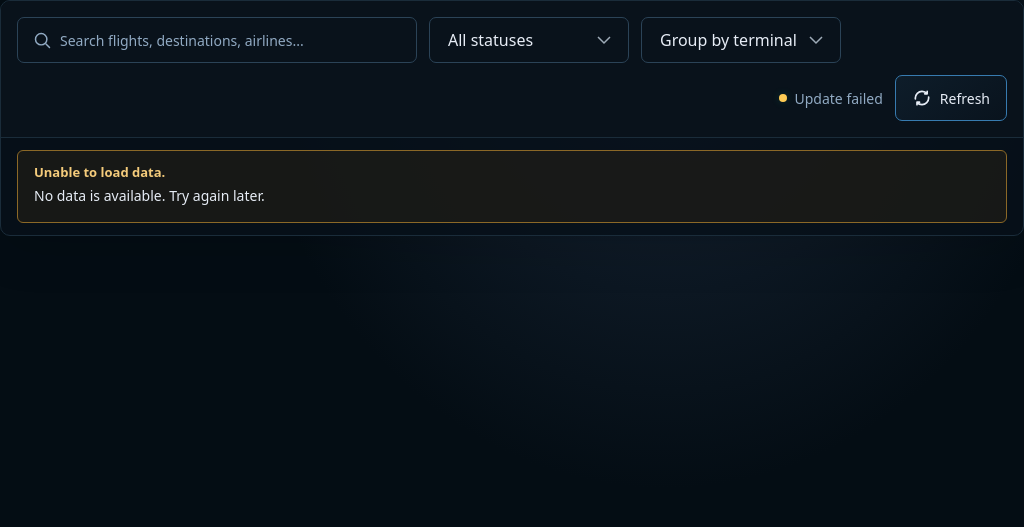
Scenario: FlightList integration › allows recovery from an initial request failure
Expected: the text with test id "error-title" reads "Unable to load data.", [34,163,165,181]
Step 1. Click the button with test id "refresh-button" → (951, 98), box [895,75,1007,121]
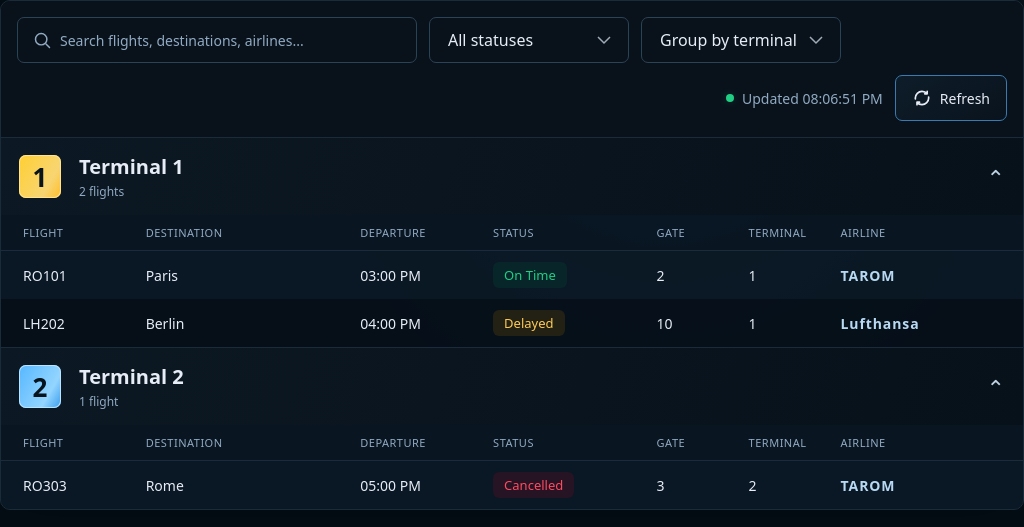
Now the cell with test id "cell-flightNumber-1" is shown, box [1,250,124,299]
Now the text with test id "error-title" is gone
